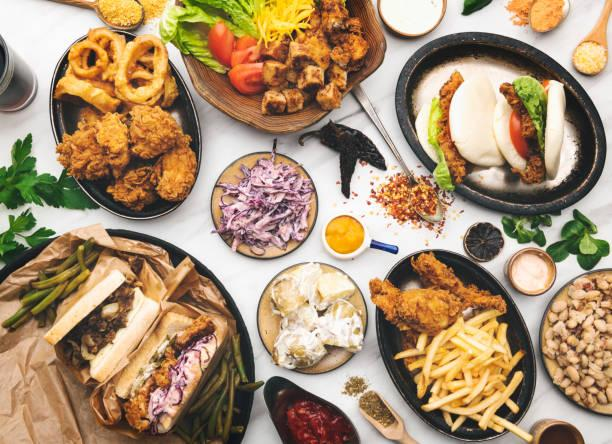Braised Crucian Carp: (3, 231, 253, 444), (394, 30, 603, 216), (376, 249, 533, 438), (174, 0, 381, 135), (48, 32, 198, 218), (257, 262, 366, 375), (211, 151, 316, 259), (539, 269, 611, 419), (262, 375, 362, 443)
